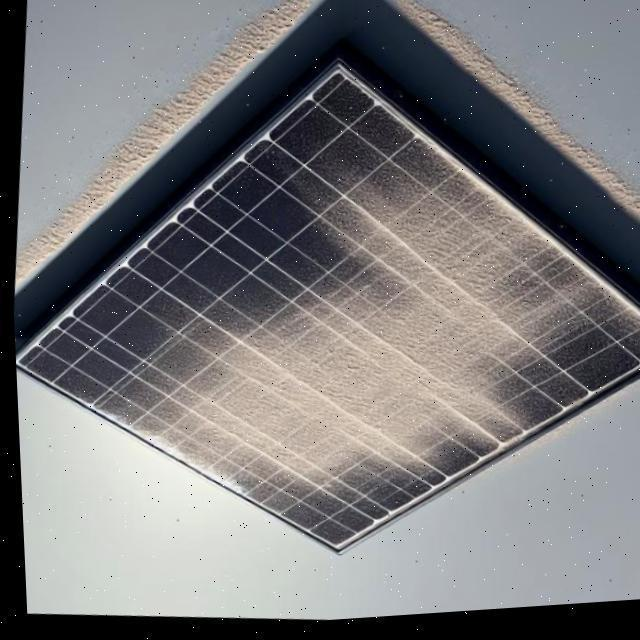Anomaly Solar Panel: (13, 34, 640, 624)
Surface Contaminant: (79, 85, 640, 623)
